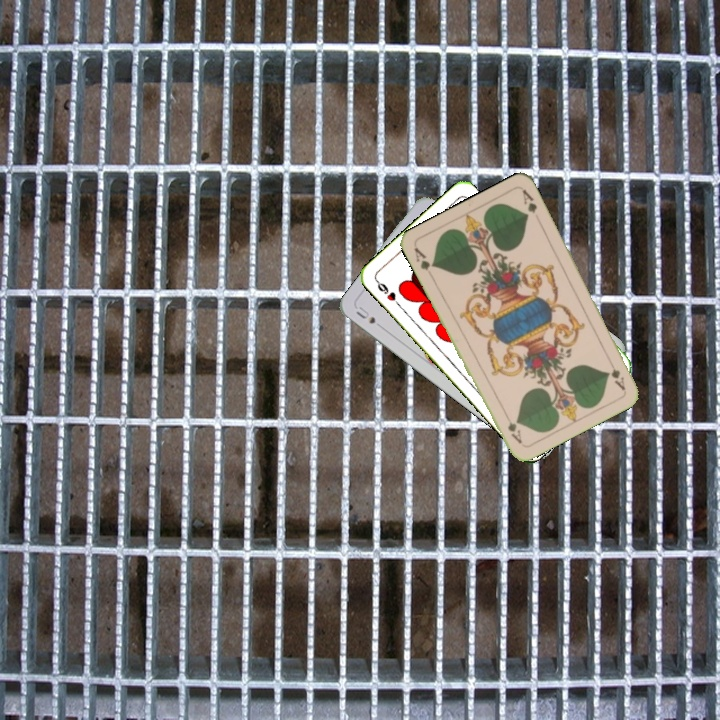GA: (604, 354, 628, 393), (410, 243, 437, 273)
H9: (372, 276, 403, 309)
SU: (352, 302, 378, 327)
